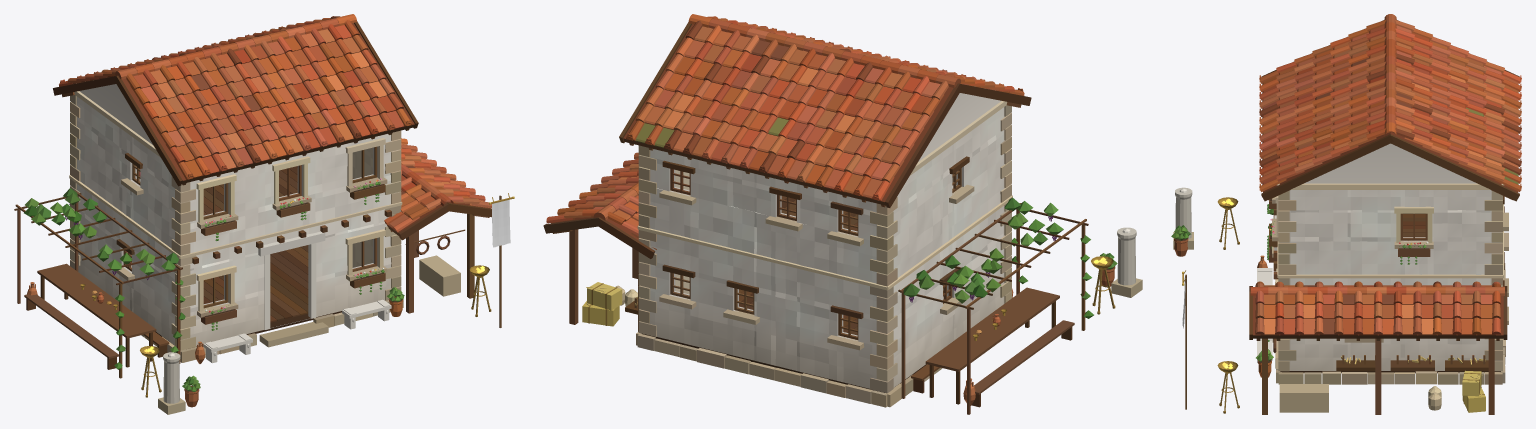
The model's file is civ_center2.glb.
3 renders of one model, left to right at view 1: azimuth 30°, elevation 25°; view 2: azimuth 150°, elevation 25°; view 3: azimuth 270°, elevation 25°, orthographic. The views are drawn at different scales.
Parts seen in each view (by area): view 1: House, Walls, Rooms; view 2: House, Walls, Rooms; view 3: House, Walls, Rooms.
Boxes of the visible parts, <box> form: House: <box>14,14,514,414</box>; Walls: <box>76,84,391,346</box>; Rooms: <box>131,147,372,322</box>; House: <box>543,14,1142,414</box>; Walls: <box>641,93,1004,388</box>; Rooms: <box>675,170,953,335</box>; House: <box>1171,14,1521,414</box>; Walls: <box>1280,143,1501,370</box>; Rooms: <box>1403,213,1425,236</box>.
Size of the model in its own units: 8.88 by 5.74 by 7.12.
8 materials, 8 textured.
